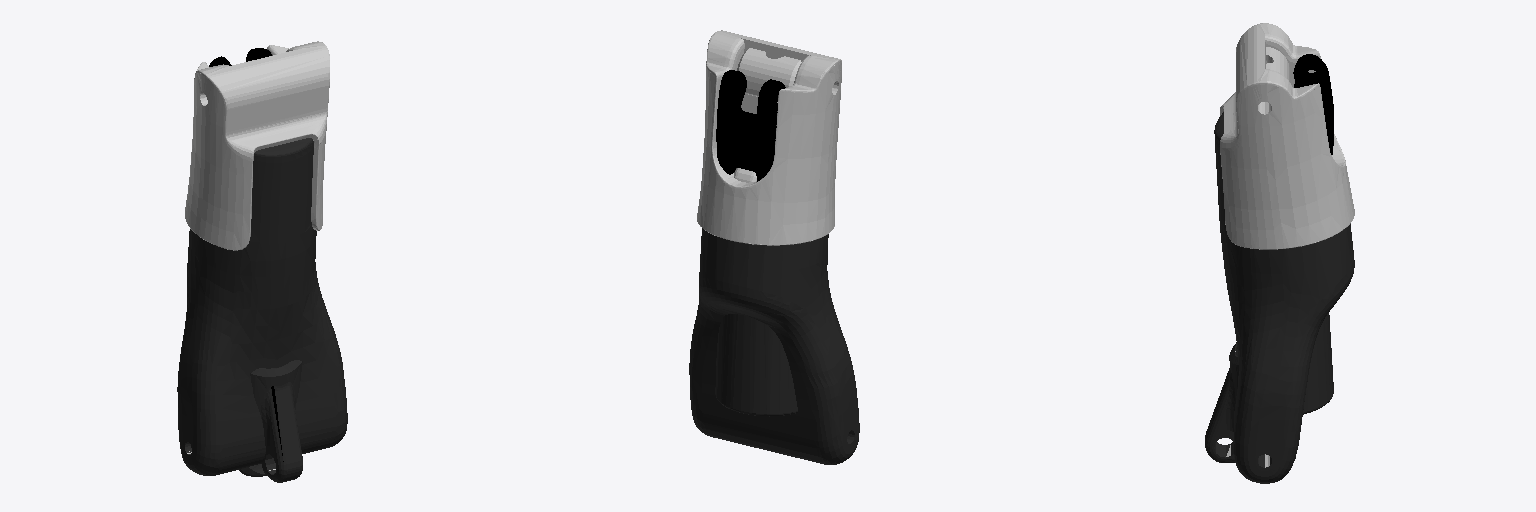
File: thumb_proximal.obj
3 renders of one model, left to right at view 1: azimuth 30°, elevation 25°; view 2: azimuth 150°, elevation 25°; view 3: azimuth 270°, elevation 25°, orthographic.
Visible parts, largest first — view 1: thumb_proximal_Link; view 2: thumb_proximal_Link; view 3: thumb_proximal_Link.
Part boxes in pixels (bbox=[...]): thumb_proximal_Link: bbox=[177, 41, 347, 482]; thumb_proximal_Link: bbox=[689, 30, 859, 464]; thumb_proximal_Link: bbox=[1205, 23, 1354, 483].
Size of the model in its own units: 0.0239 by 0.0613 by 0.0205.